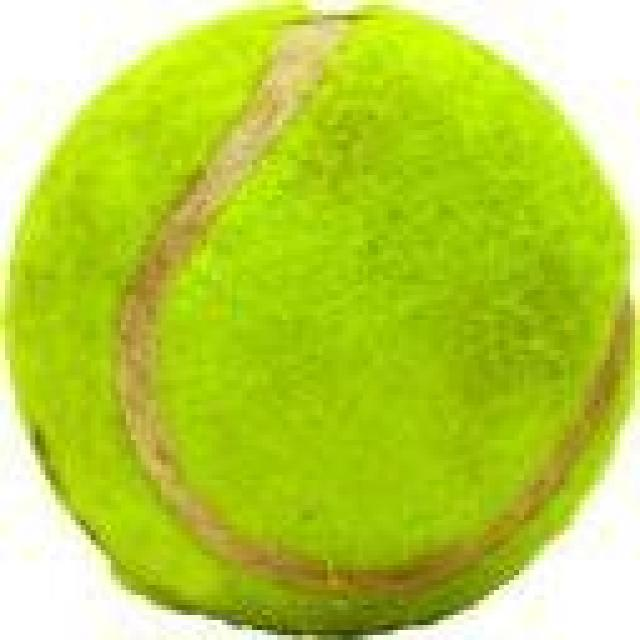Tennis Ball: (0, 0, 635, 640)
